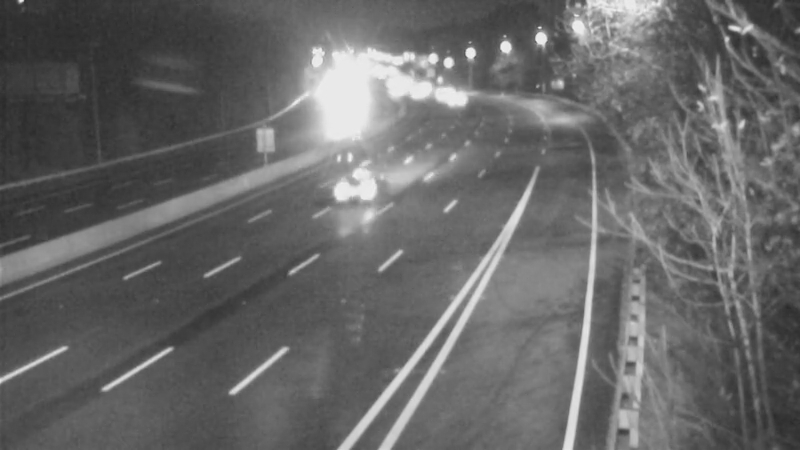vehicle: (327, 143, 407, 223)
